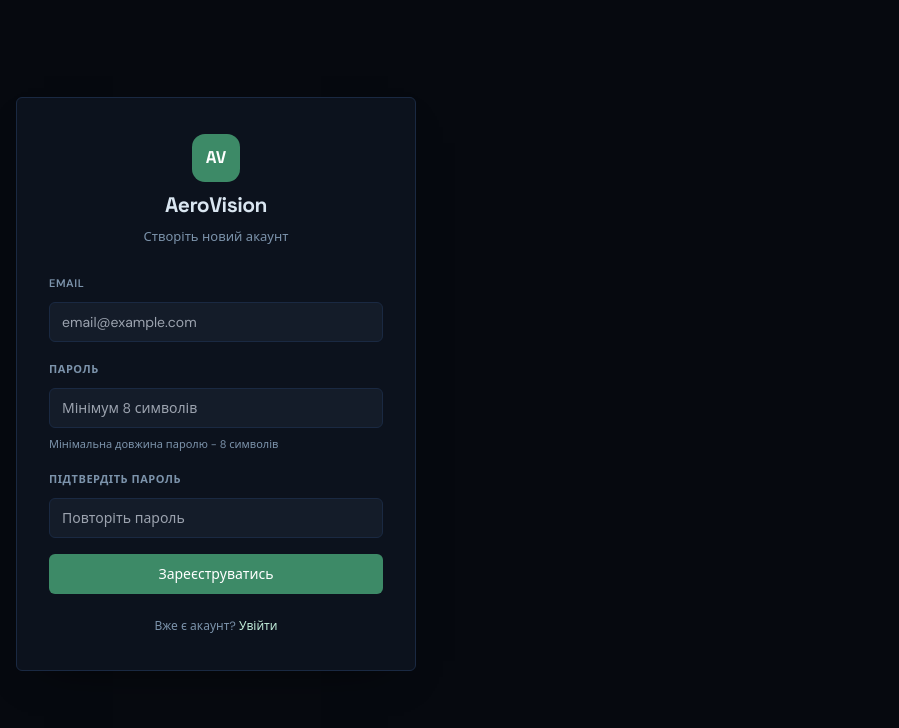
Phase 24 auth routes › validates registration password length and maps disabled registration to Ukrainian notice
Type "new@example.com" into the field labelled "Email" at (216, 322), box [49,302,383,342]
Type "short" into the password field labelled "Пароль" at (216, 408), box [49,388,383,428]
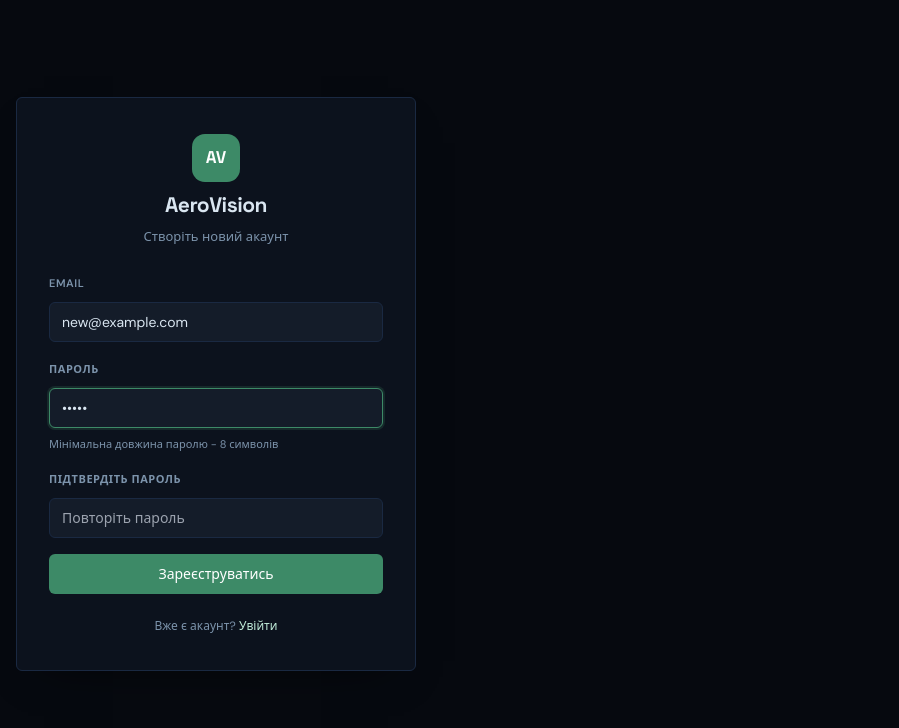
Type "short" into the password field labelled "Підтвердіть пароль" at (216, 518), box [49,498,383,538]
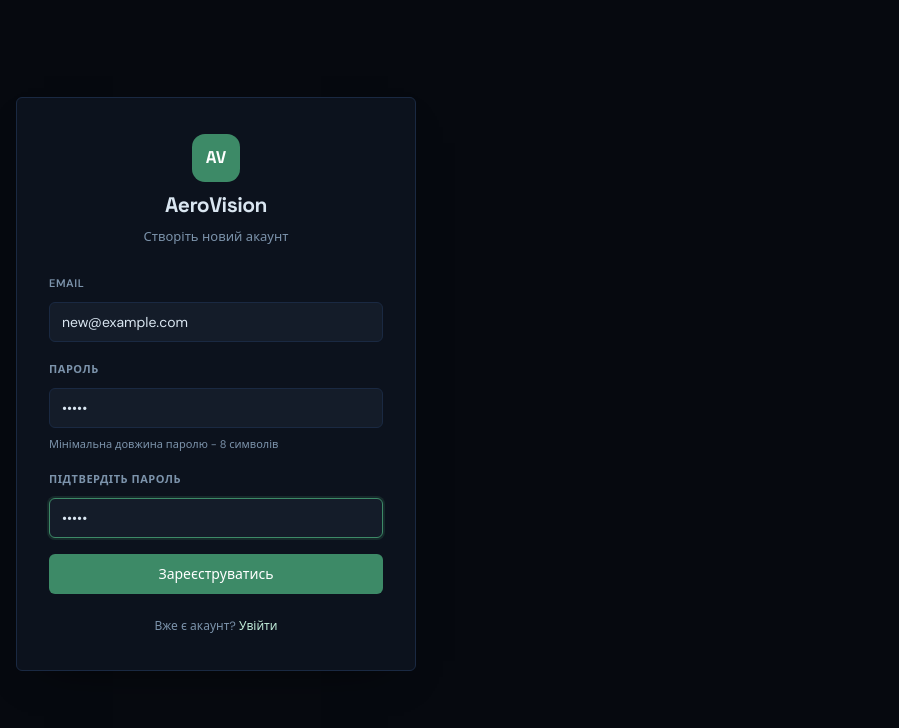
Click the button "Зареєструватись" at (216, 574), box [49,554,383,594]
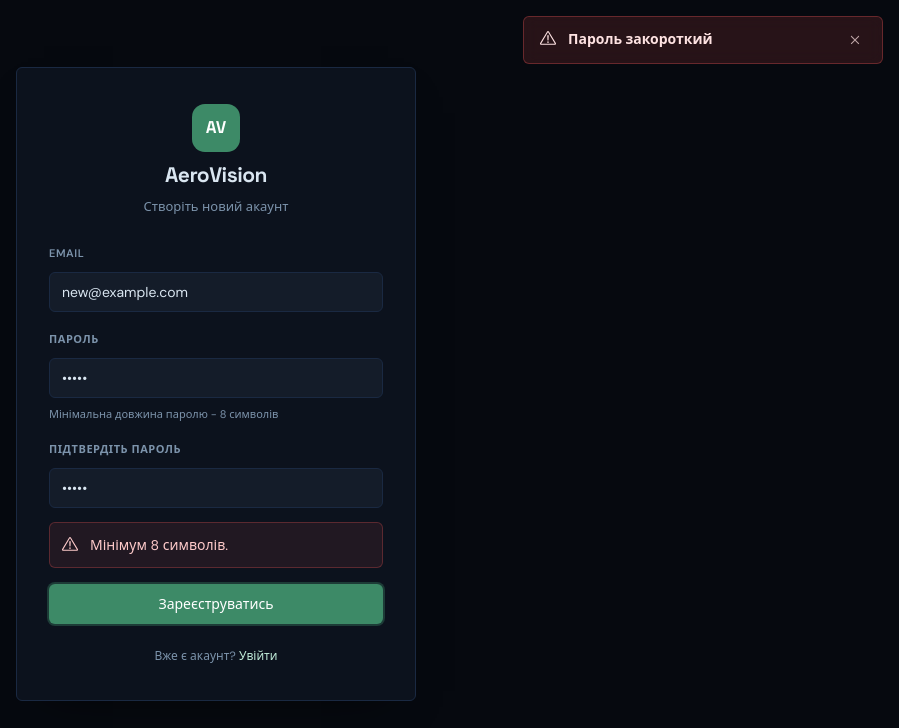
Check: the text "Мінімум 8 символів." is shown, box [90,535,228,555]
Type "longpass1" into the password field labelled "Пароль" at (216, 378), box [49,358,383,398]
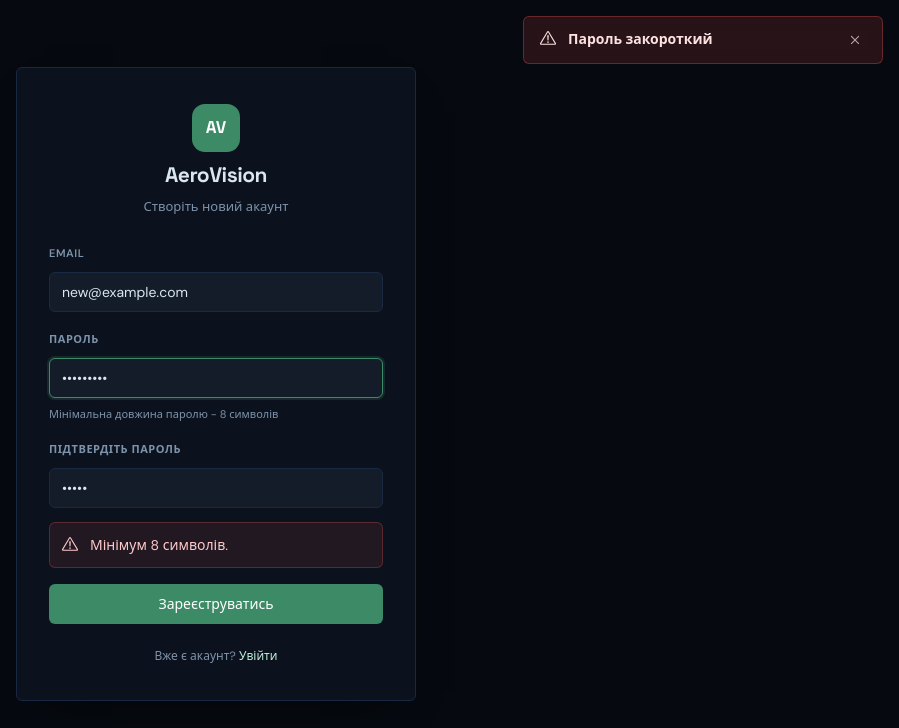
Type "longpass1" into the password field labelled "Підтвердіть пароль" at (216, 488), box [49,468,383,508]
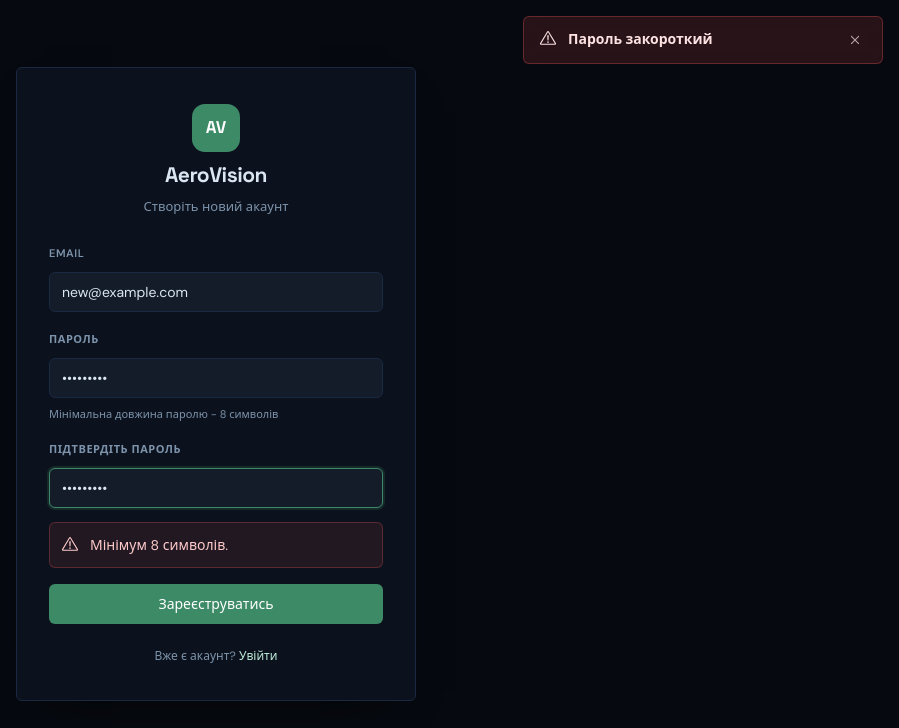
Click the button "Зареєструватись" at (216, 604), box [49,584,383,624]
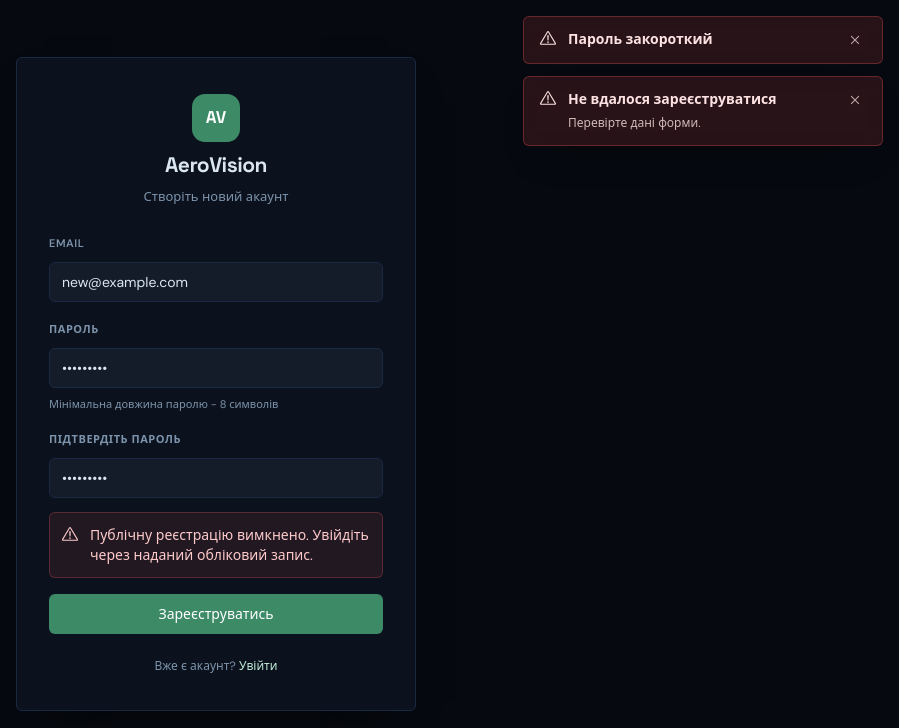
Check: the text "Публічну реєстрацію вимкнено. Увійдіть через наданий обліковий запис." is shown, box [90,525,370,565]
